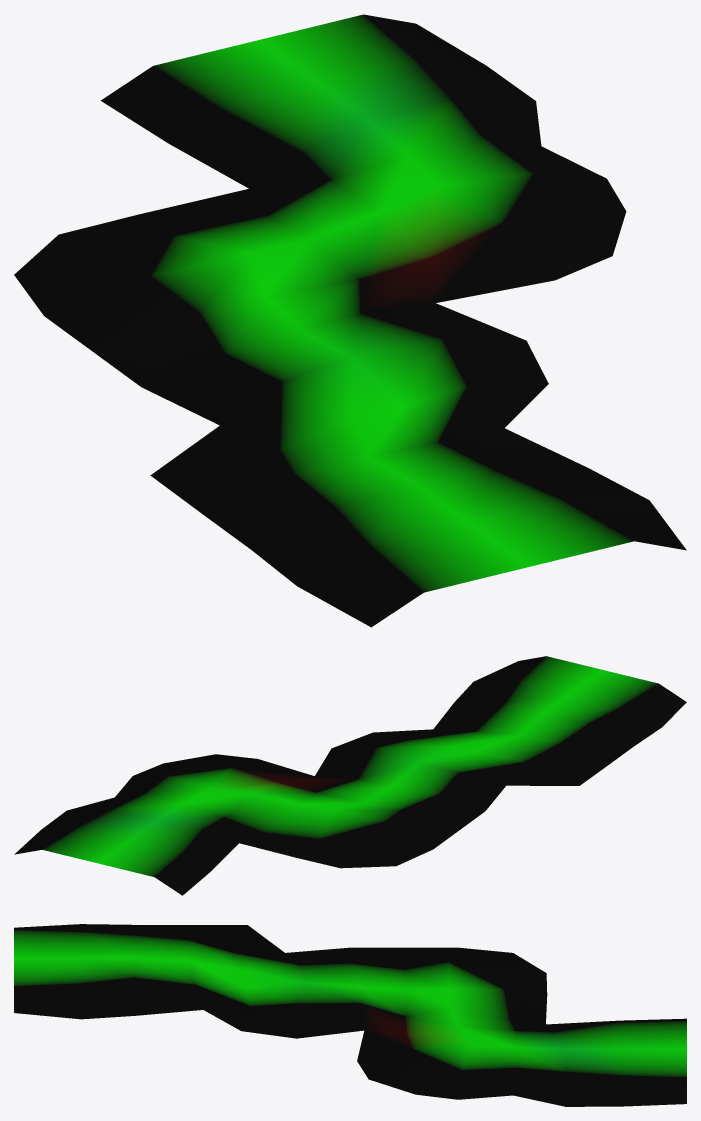
Rendered from Section_WayLine02_Swamp_Terrain.fbx.
3 renders of one model, top to bottom at view 1: azimuth 30°, elevation 25°; view 2: azimuth 150°, elevation 25°; view 3: azimuth 270°, elevation 25°, orthographic. The views are drawn at different scales.
Visible parts, largest first — view 1: Section_WayLine02_Swamp_Terrain; view 2: Section_WayLine02_Swamp_Terrain; view 3: Section_WayLine02_Swamp_Terrain.
Part boxes in pixels (x1,y1,x2,y2): Section_WayLine02_Swamp_Terrain: (14,14,686,627); Section_WayLine02_Swamp_Terrain: (14,656,686,895); Section_WayLine02_Swamp_Terrain: (14,924,686,1106).
Size of the model in its own units: 3214 by 100 by 5000.
